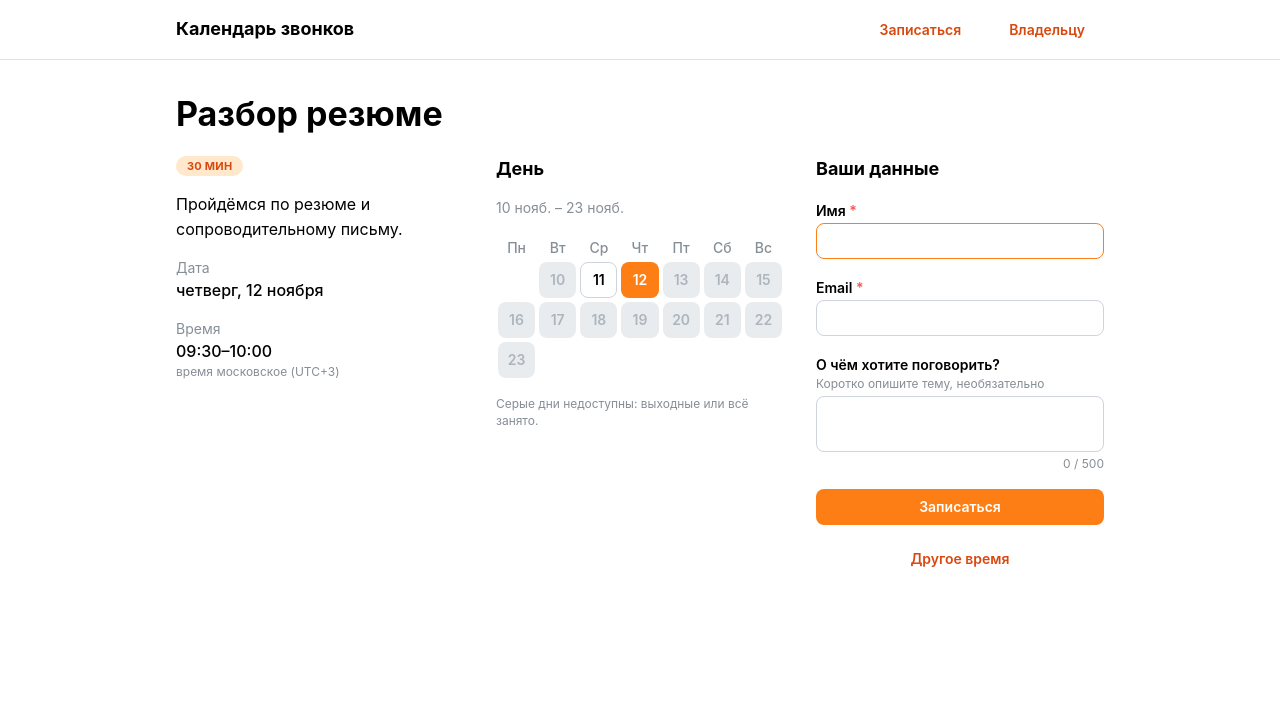
Test case: a conflict sends the guest back to fresh slots of the chosen day with «Это время уже заняли. Выберите другое.»
The image size is (1280, 720).
Earlier steps of the test are not shown.
Later steps or results of the test are not shown.
Type keys "Иван Петров"
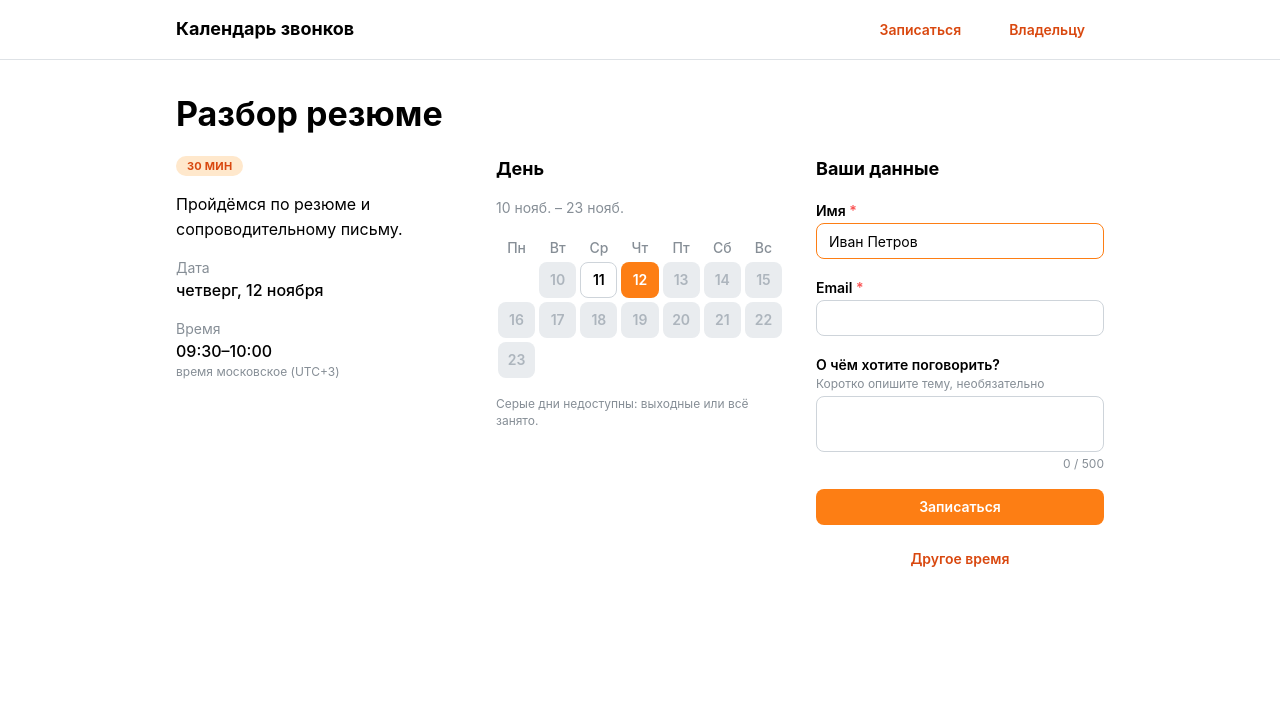
Clear the field labelled "Email" at (960, 318), box [816,300,1104,336]
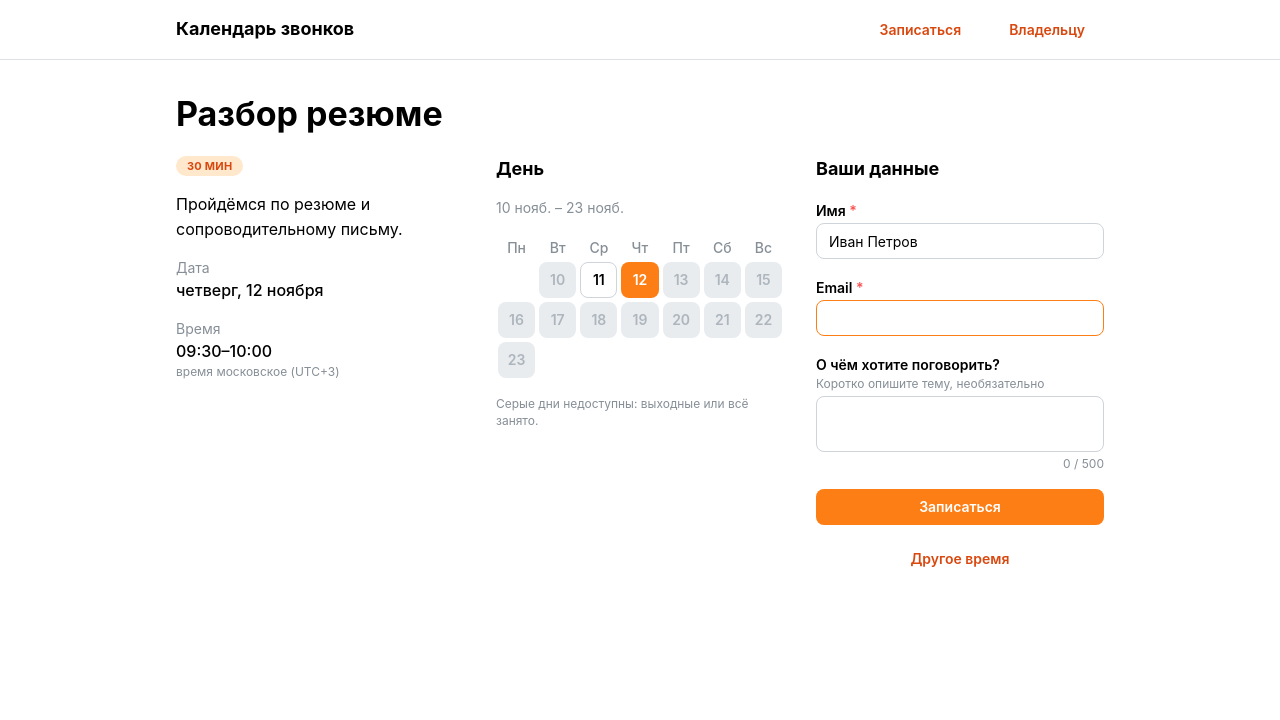
Click the field labelled "Email".
click(960, 318)  # box [816,300,1104,336]
Type keys "ivan@example.com"
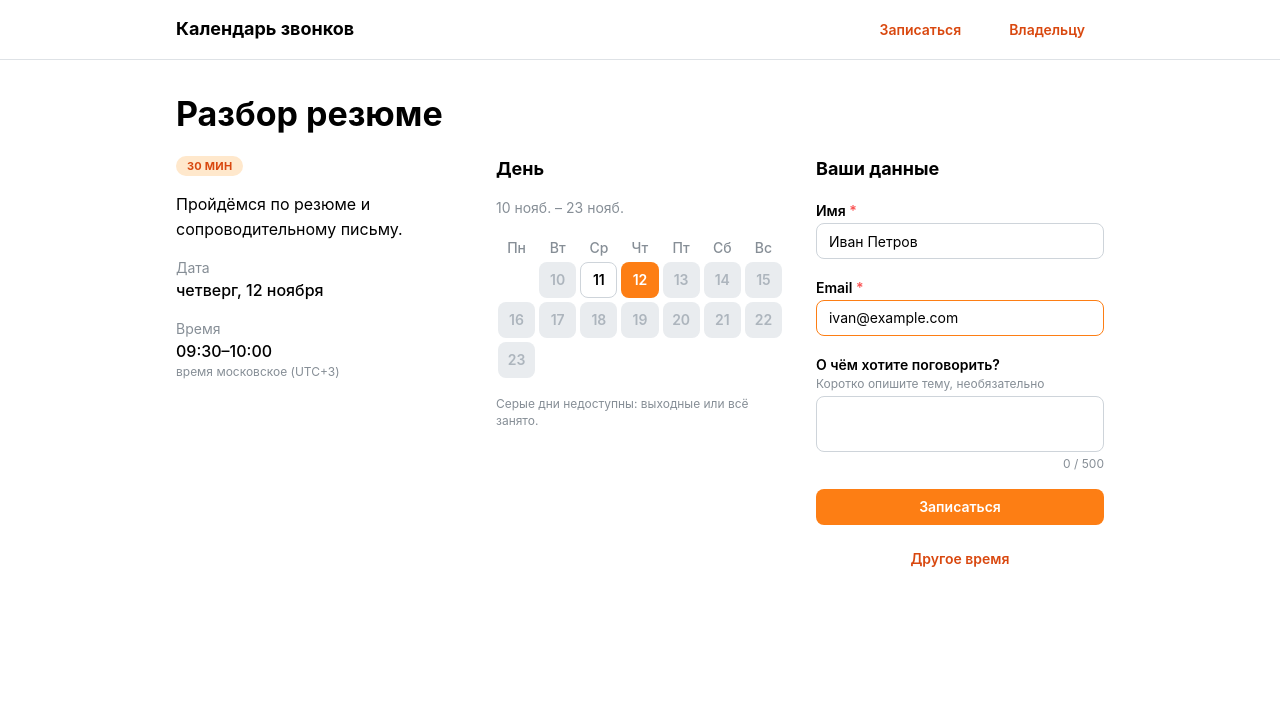
Clear the text box labelled "О чём хотите поговорить?" at (960, 424), box [816,396,1104,452]
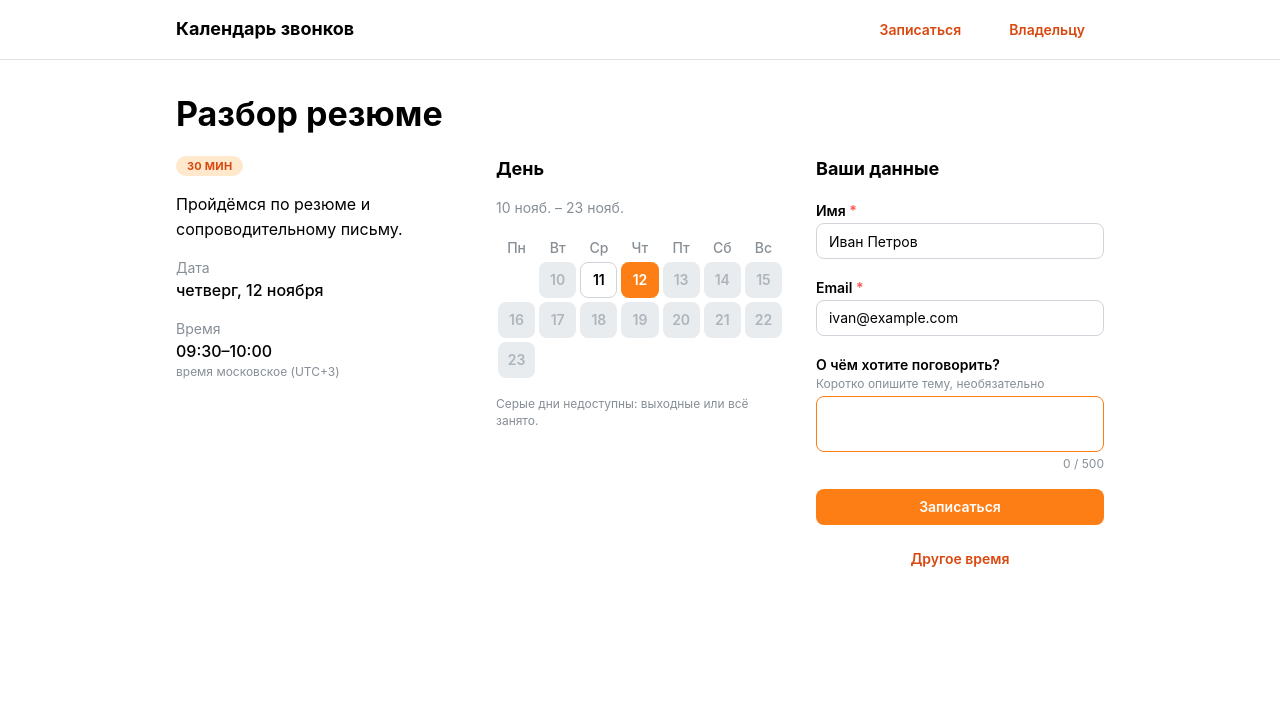
Click the text box labelled "О чём хотите поговорить?".
click(960, 424)  # box [816,396,1104,452]
Type keys "Хочу обсудить резюме"
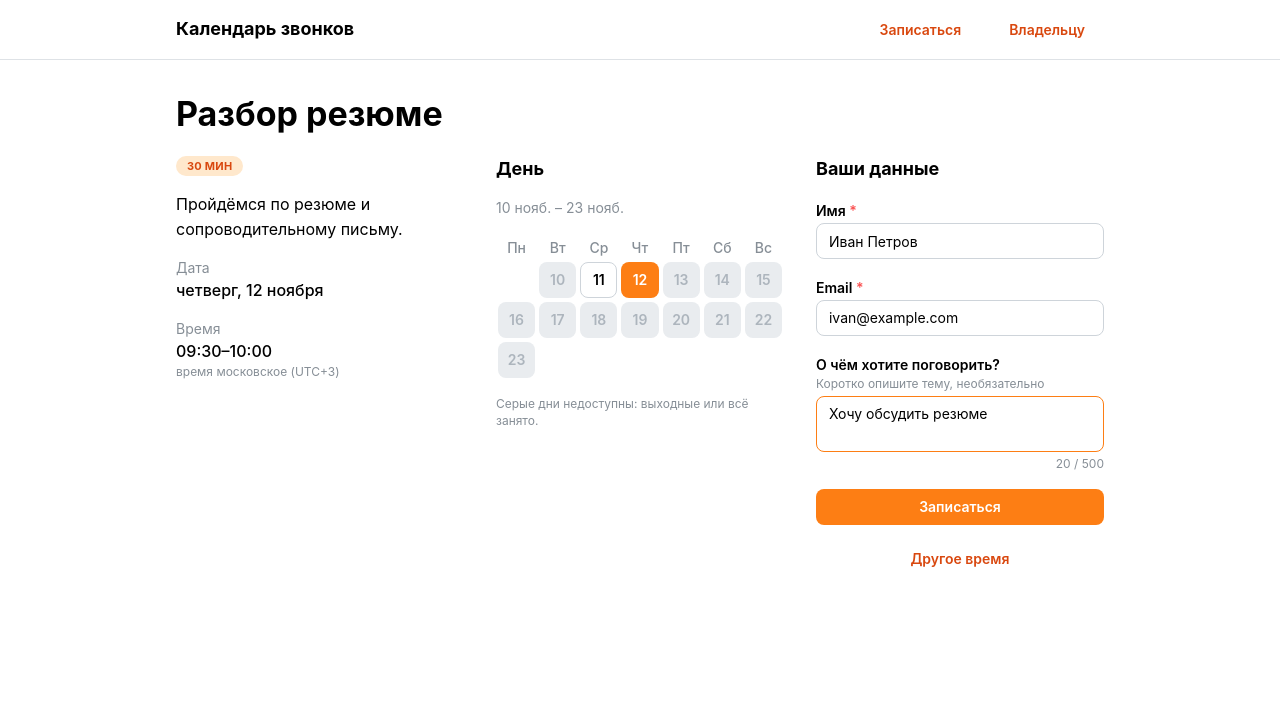
Click the button "Записаться" below "500".
click(960, 507)  # box [816,489,1104,525]
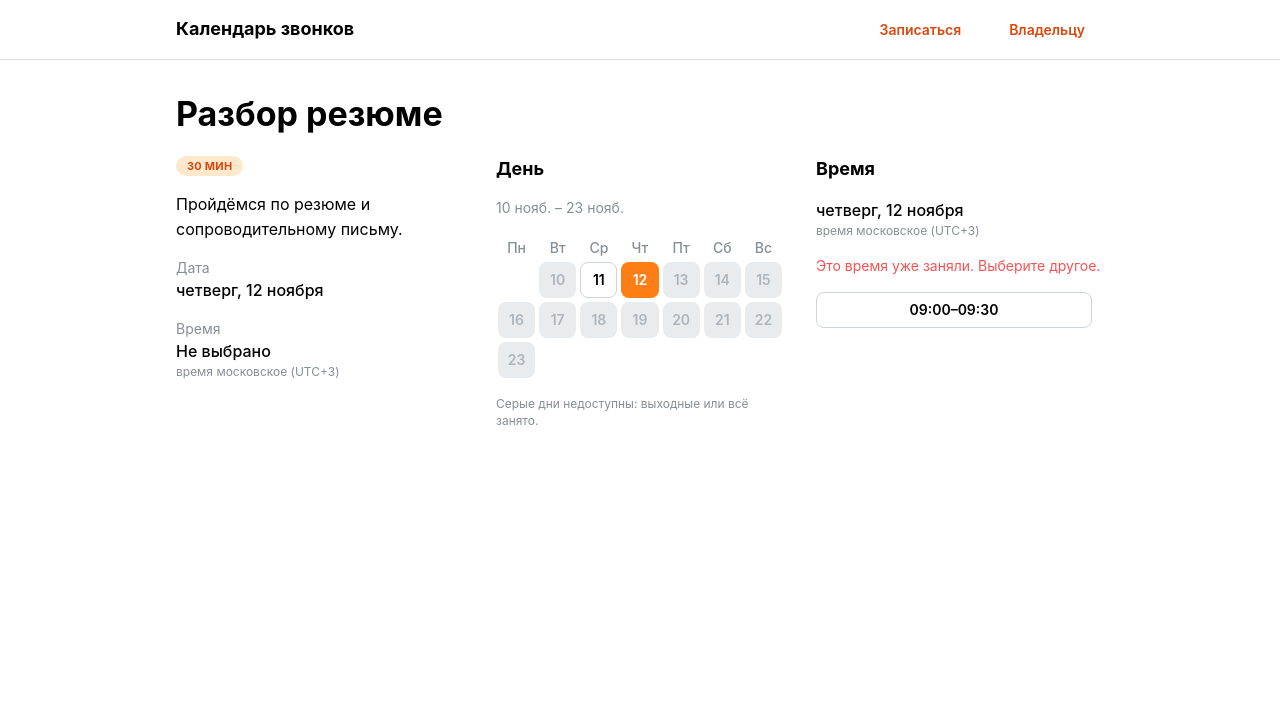
Now the text "Это время уже заняли. Выберите другое." is shown, box [816,256,1104,276]
Now the heading "Ваши данные" is gone
Now the text "Не выбрано" is shown, box [176,341,271,361]
